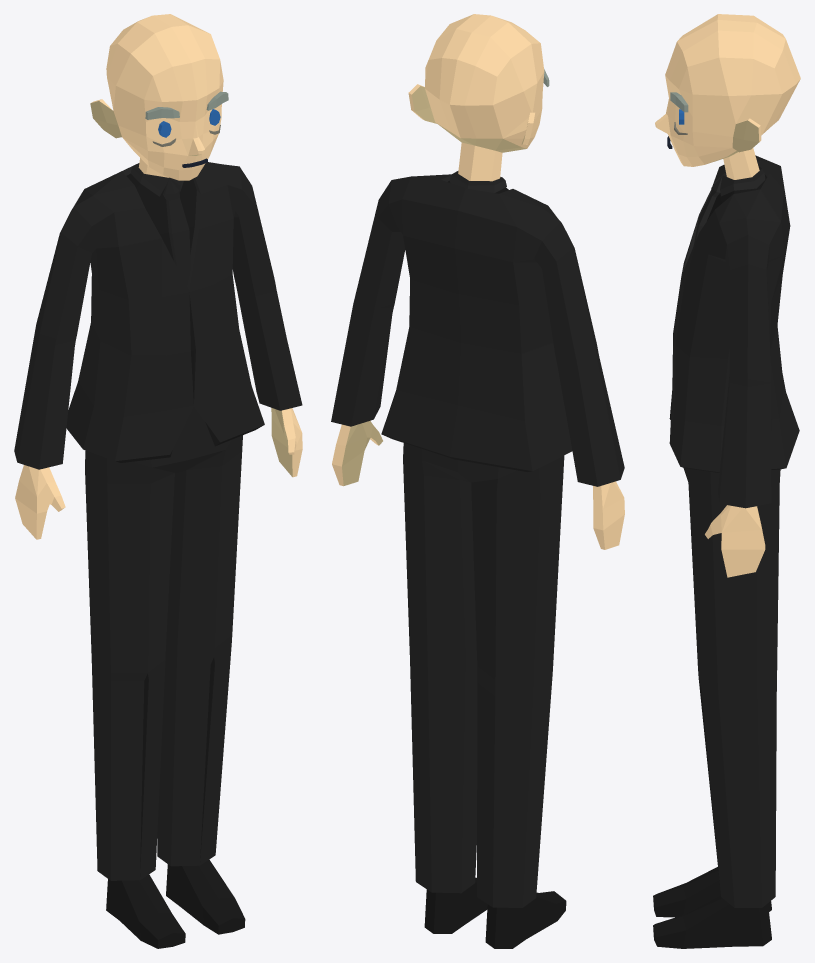
The model's file is LP_old_man.glb.
3 renders of one model, left to right at view 1: azimuth 30°, elevation 25°; view 2: azimuth 150°, elevation 25°; view 3: azimuth 270°, elevation 25°, orthographic.
Parts seen in each view (by area): view 1: Cube.001_0, baby_eyes1_1; view 2: Cube.001_0; view 3: Cube.001_0, baby_eyes1_1.
Boxes of the visible parts, bbox=[...] form: Cube.001_0: bbox=[14, 14, 302, 948]; baby_eyes1_1: bbox=[145, 91, 228, 146]; Cube.001_0: bbox=[331, 14, 624, 948]; Cube.001_0: bbox=[653, 14, 800, 948]; baby_eyes1_1: bbox=[670, 92, 688, 134].
Size of the model in its own units: 0.6608 by 2 by 0.2956.
1 material, 1 textured.
